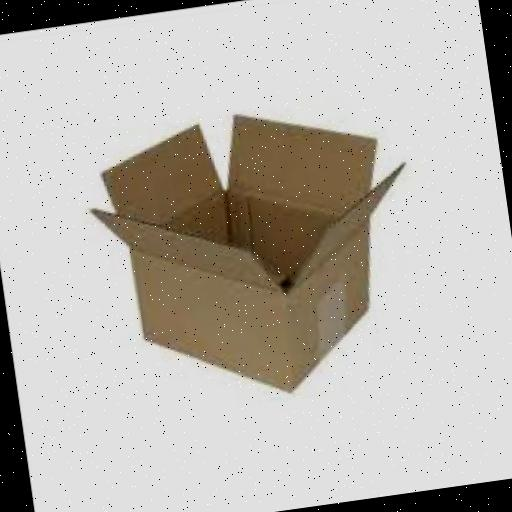cardboard: (82, 88, 436, 418)
